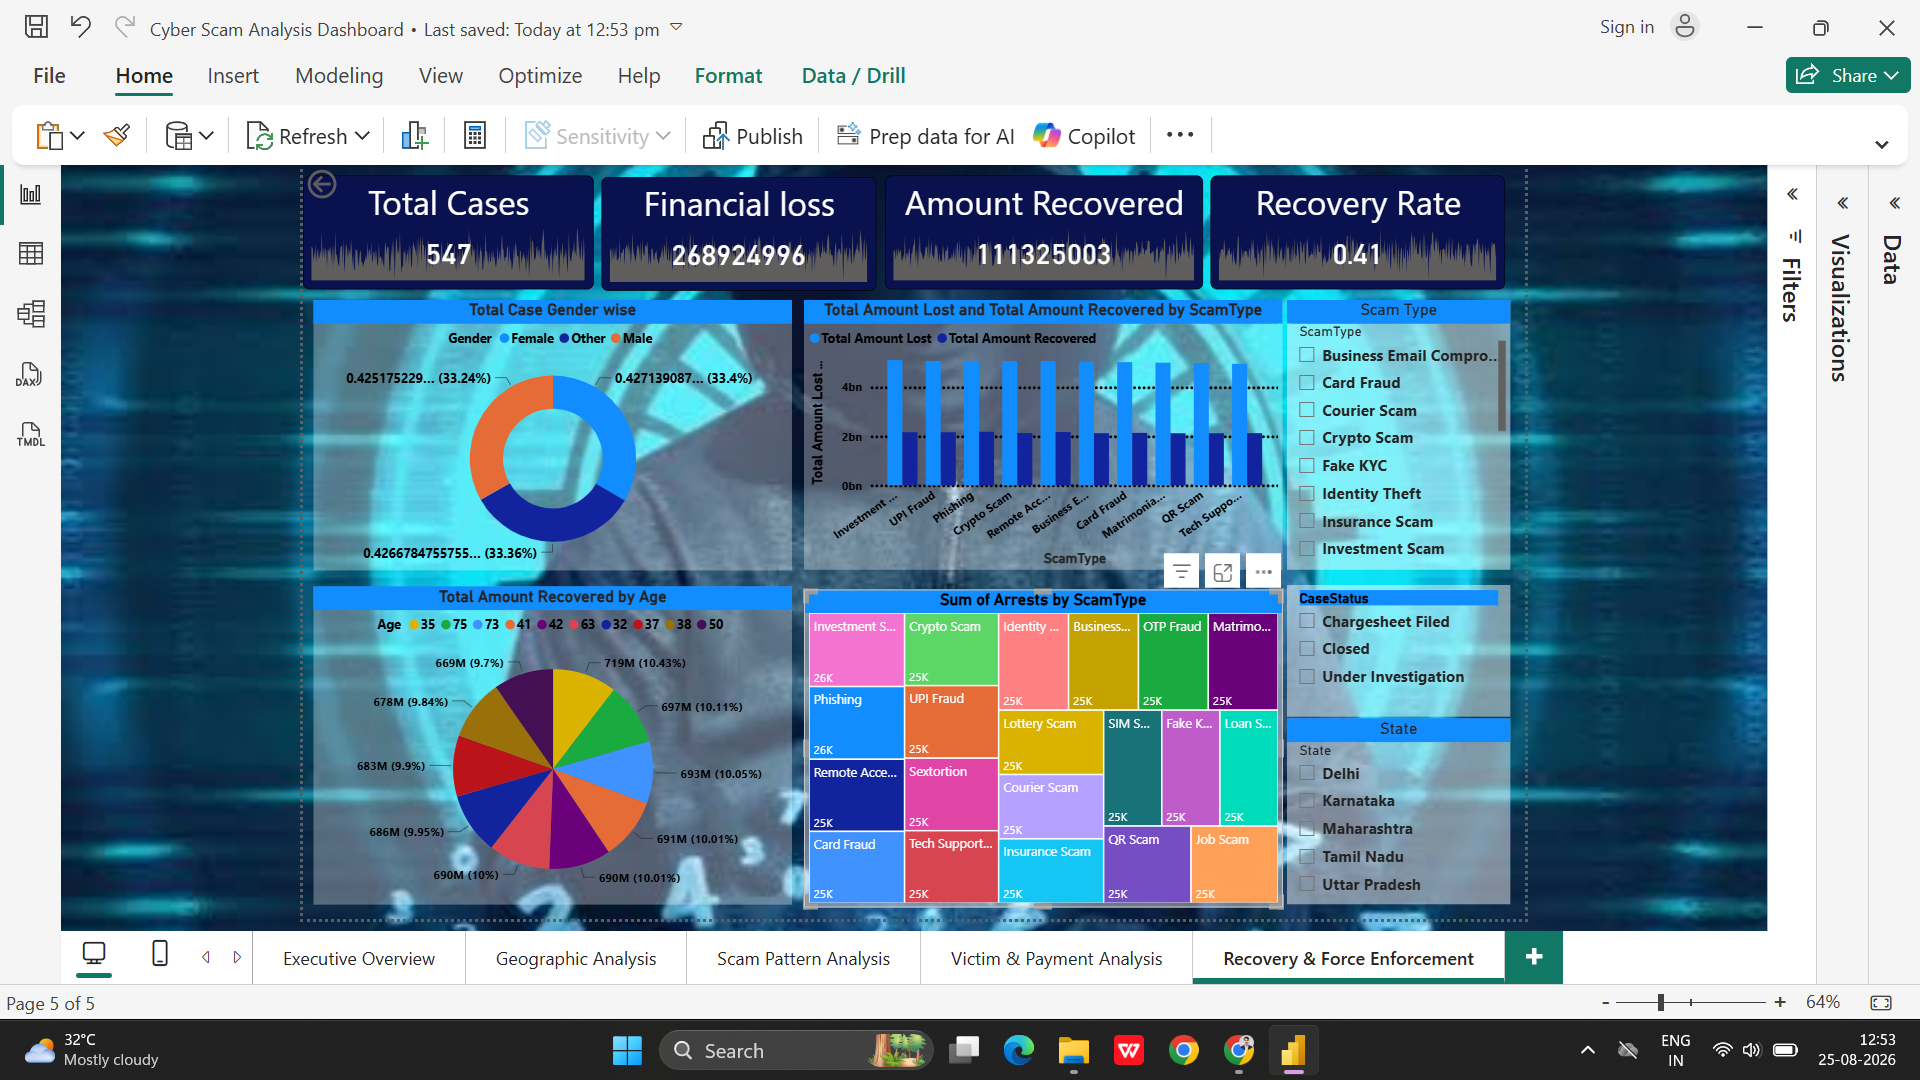

What the dashboard file says about the page in this screenshot:
{"tool":"powerbi","page":{"name":"Recovery & Force Enforcement","canvas":[1280,790],"ordinal":4},"visuals":[{"type":"kpi","title":"Total Cases","fields":{"Indicator":["Sheet.Total Cases"],"TrendLine":["Sheet.Date"]},"box":[0,11.6,304.4,119.6],"z":0},{"type":"kpi","title":"Financial loss","fields":{"Indicator":["Sheet.Total Amount Lost"],"TrendLine":["Sheet.Date"]},"box":[312.9,12.1,287.7,119.6],"z":1},{"type":"kpi","title":"Amount Recovered","fields":{"Indicator":["Sheet.Total Amount Recovered"],"TrendLine":["Sheet.Date"]},"box":[609.2,10.6,333.1,119.6],"z":2},{"type":"kpi","title":"Recovery Rate","fields":{"Indicator":["Sheet.Recovery rate %"],"TrendLine":["Sheet.Date"]},"box":[950.9,11.1,308.9,119.6],"z":3},{"type":"donutChart","title":"Total Case  Gender  wise ","fields":{"Category":["Sheet.Gender"],"Y":["Sheet.Recovery rate %"]},"box":[10.6,140.8,501.2,283.2],"z":4},{"type":"clusteredColumnChart","fields":{"Y":["Sheet.Total Amount Lost","Sheet.Total Amount Recovered"],"Category":["Sheet.ScamType"]},"box":[524.9,141.4,501.4,282.9],"z":5},{"type":"pieChart","fields":{"Category":["Sheet.Age"],"Y":["Sheet.Total Amount Recovered"]},"box":[11,441.6,501.4,333.2],"z":6},{"type":"treemap","fields":{"Group":["Sheet.ScamType"],"Values":["Sum(Sheet.Arrests)"]},"box":[524.9,444.8,501.4,333.2],"z":7},{"type":"slicer","title":"State ","fields":{"Values":["Sheet.State"]},"box":[1031,579.9,234.2,194.9],"z":8},{"type":"slicer","title":"State ","fields":{"Values":["Sheet.CaseStatus"]},"box":[1031,440.1,234.2,138.3],"z":9},{"type":"slicer","title":"Scam Type","fields":{"Values":["Sheet.ScamType"]},"box":[1031,141.4,234.2,282.9],"z":10},{"type":"actionButton","box":[0,0,100,40],"z":11}]}

Visuals, with their boxes on the page's 1280x790 design canvas (x1, y1, x2, y2). These are canvas units, not pixel positions in the 1920x1080 screenshot, which may show the page scaled, cropped or inside an application window:
"Total Cases" kpi: x1=0, y1=12, x2=304, y2=131
"Financial loss" kpi: x1=313, y1=12, x2=601, y2=132
"Amount Recovered" kpi: x1=609, y1=11, x2=942, y2=130
"Recovery Rate" kpi: x1=951, y1=11, x2=1260, y2=131
"Total Case  Gender  wise " donutChart: x1=11, y1=141, x2=512, y2=424
clusteredColumnChart - Sheet.Total Amount Lost x Sheet.Total Amount Recovered: x1=525, y1=141, x2=1026, y2=424
pieChart - Sheet.Age x Sheet.Total Amount Recovered: x1=11, y1=442, x2=512, y2=775
treemap - Sheet.ScamType x Sum(Sheet.Arrests): x1=525, y1=445, x2=1026, y2=778
"State " slicer: x1=1031, y1=580, x2=1265, y2=775
"State " slicer: x1=1031, y1=440, x2=1265, y2=578
"Scam Type" slicer: x1=1031, y1=141, x2=1265, y2=424
actionButton: x1=0, y1=0, x2=100, y2=40
